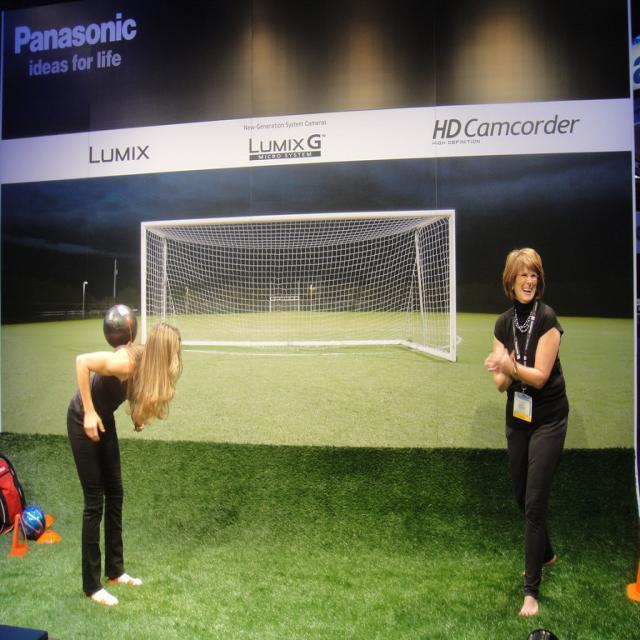ball: (105, 301, 136, 344), (20, 504, 47, 538)
